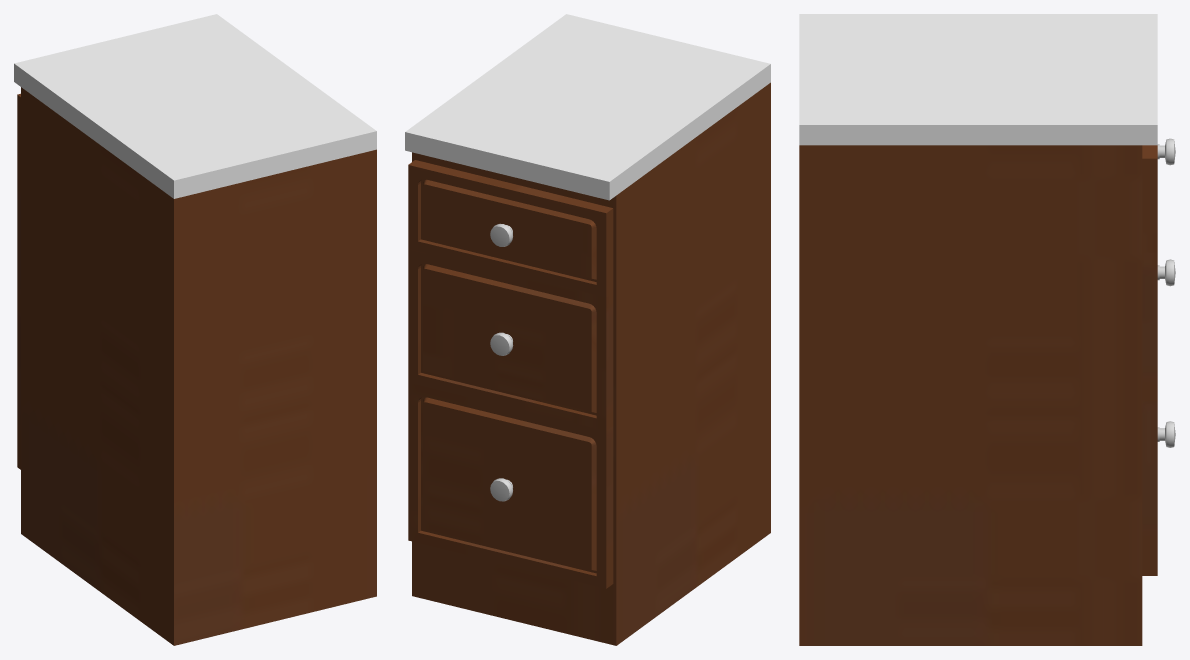
File: CabinetC03.glb
3 renders of one model, left to right at view 1: azimuth 30°, elevation 25°; view 2: azimuth 150°, elevation 25°; view 3: azimuth 270°, elevation 25°, orthographic. The views are drawn at different scales.
Parts seen in each view (by area): view 1: CabinetC03_model, CabinetC03Drawer03, CabinetC03Drawer02; view 2: CabinetC03_model, CabinetC03Drawer03, CabinetC03Drawer02, CabinetC03Drawer01; view 3: CabinetC03_model, CabinetC03Drawer03, CabinetC03Drawer02, CabinetC03Drawer01.
Part boxes in pixels (bbox=[...]): CabinetC03_model: bbox=[14, 14, 376, 645]; CabinetC03Drawer03: bbox=[17, 311, 20, 469]; CabinetC03Drawer02: bbox=[17, 178, 20, 312]; CabinetC03_model: bbox=[405, 14, 770, 645]; CabinetC03Drawer03: bbox=[408, 382, 613, 588]; CabinetC03Drawer02: bbox=[408, 249, 613, 430]; CabinetC03Drawer01: bbox=[408, 160, 613, 297]; CabinetC03_model: bbox=[799, 14, 1157, 645]; CabinetC03Drawer03: bbox=[1142, 400, 1175, 575]; CabinetC03Drawer02: bbox=[1142, 252, 1175, 400]; CabinetC03Drawer01: bbox=[1142, 138, 1175, 252].
Size of the model in its own units: 0.9201 by 2.02 by 1.32.
1 material, 1 textured.
